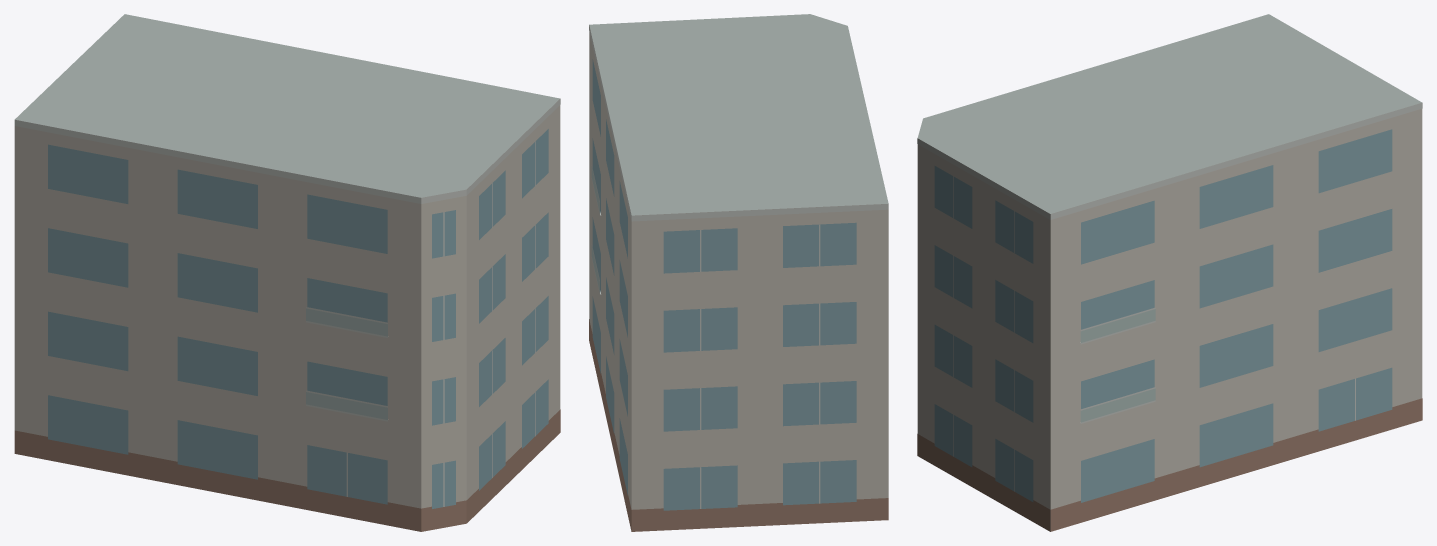
File: survey-upis-32823531.glb
3 renders of one model, left to right at view 1: azimuth 30°, elevation 25°; view 2: azimuth 150°, elevation 25°; view 3: azimuth 270°, elevation 25°, orthographic. The views are drawn at different scales.
Parts seen in each view (by area): view 1: survey-upis-32823531.tmp; view 2: survey-upis-32823531.tmp; view 3: survey-upis-32823531.tmp.
Boxes of the visible parts, bbox=[...] form: survey-upis-32823531.tmp: bbox=[14, 14, 560, 531]; survey-upis-32823531.tmp: bbox=[589, 14, 888, 531]; survey-upis-32823531.tmp: bbox=[917, 14, 1422, 531].
Bounding box in the file's own units: 17.59 × 13.02 × 18.76.
